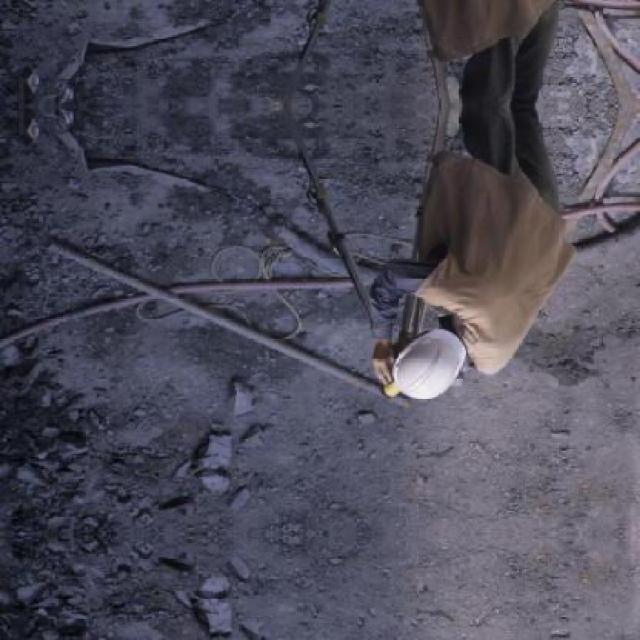con casco: (358, 302, 501, 408)
